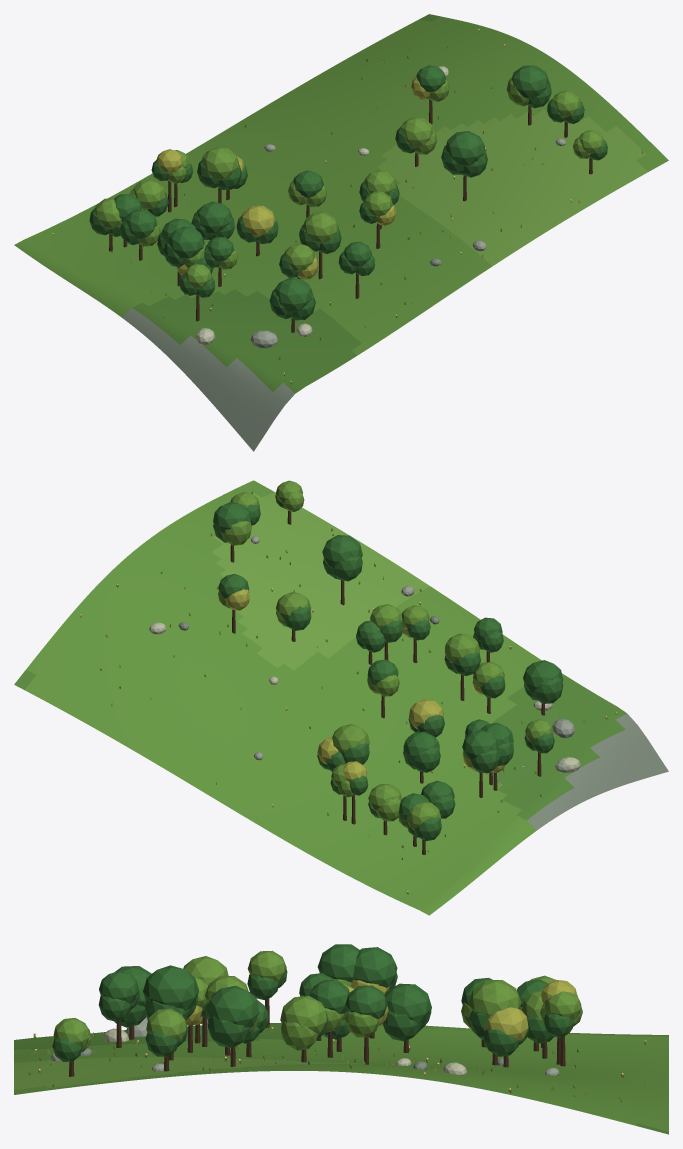
File: Chunk_X1_Y0_Z2.fbx
3 views of the same model, one above another, from view 1: azimuth 30°, elevation 25°; view 2: azimuth 150°, elevation 25°; view 3: azimuth 270°, elevation 25° (orthographic). The views are drawn at different scales.
Parts seen in each view (by area): view 1: Terrain.033, Canopies.032, Trunks.032, Rocks.033; view 2: Terrain.033, Canopies.032, Trunks.032, Rocks.033; view 3: Canopies.032, Terrain.033, Trunks.032, Rocks.033, GroundCover.033.
Boxes of the visible parts, bbox=[...] form: Terrain.033: bbox=[14, 14, 668, 451]; Canopies.032: bbox=[89, 65, 607, 320]; Trunks.032: bbox=[109, 99, 592, 332]; Rocks.033: bbox=[195, 66, 565, 348]; Terrain.033: bbox=[14, 480, 668, 915]; Canopies.032: bbox=[213, 480, 563, 840]; Trunks.032: bbox=[230, 511, 545, 854]; Rocks.033: bbox=[149, 536, 580, 772]; Canopies.032: bbox=[52, 944, 582, 1061]; Terrain.033: bbox=[14, 1023, 668, 1134]; Trunks.032: bbox=[69, 998, 565, 1076]; Rocks.033: bbox=[51, 1017, 559, 1075]; GroundCover.033: bbox=[28, 1024, 646, 1102].
Bounding box in the file's own units: 100 × 55.12 × 100.
